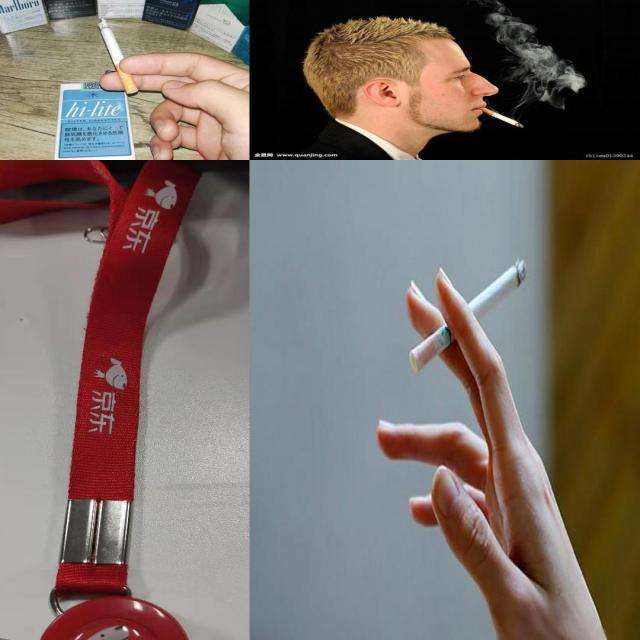cigarette: (408, 256, 529, 376), (98, 18, 138, 94), (477, 105, 526, 129)
